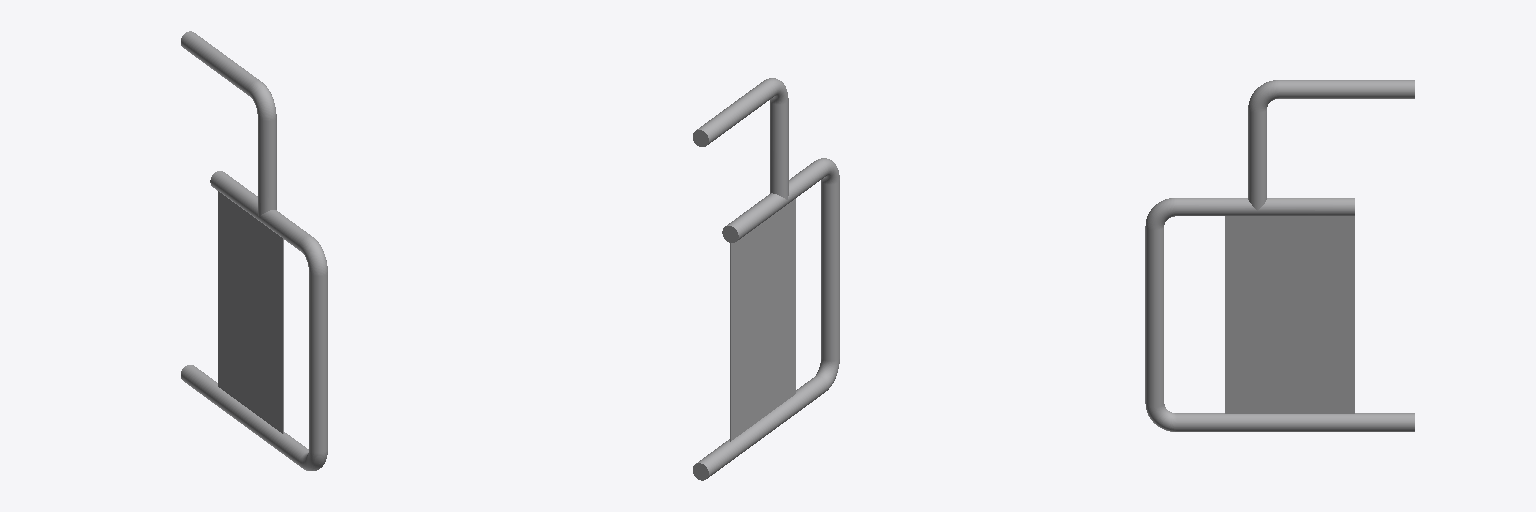
Rendered from right_panel_visual.obj.
3 views of the same model, side by side, from view 1: azimuth 30°, elevation 25°; view 2: azimuth 150°, elevation 25°; view 3: azimuth 270°, elevation 25° (orthographic).
Visible parts, largest first — view 1: right_panel_visual.001; view 2: right_panel_visual.001; view 3: right_panel_visual.001.
Boxes of the visible parts, x1=… form: right_panel_visual.001: x1=181, y1=31, x2=327, y2=470; right_panel_visual.001: x1=693, y1=78, x2=839, y2=480; right_panel_visual.001: x1=1145, y1=80, x2=1414, y2=431.
Bounding box in the file's own units: 0.0222 × 0.454 × 0.3159.